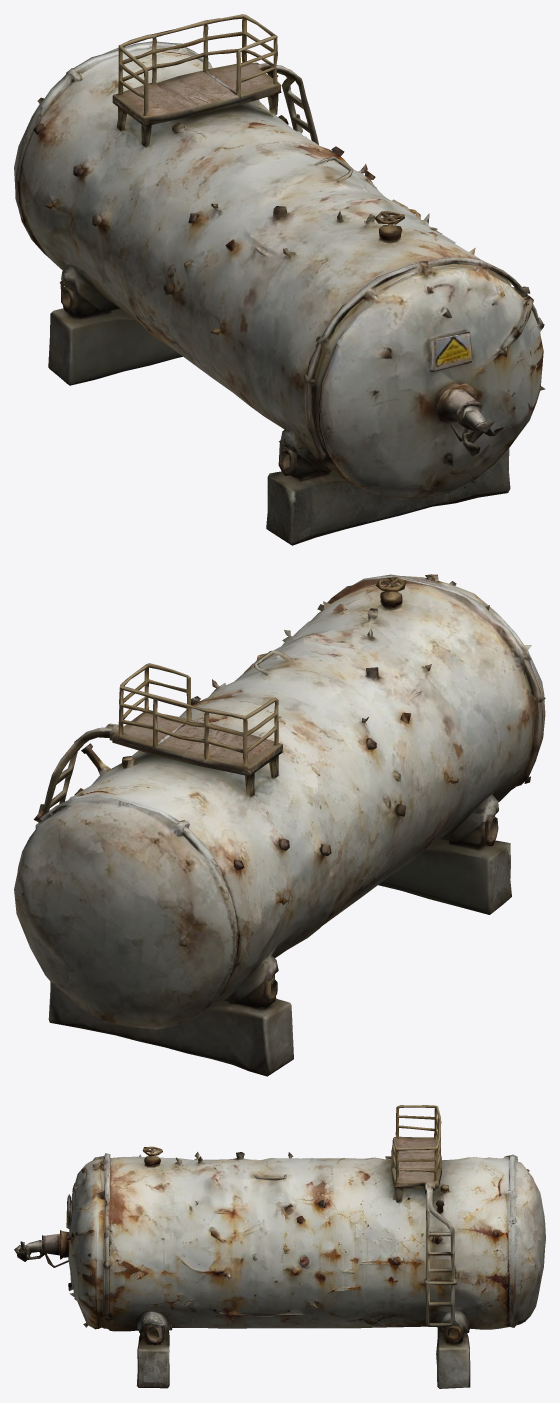
The model's file is pt_tank_h.glb.
3 renders of one model, top to bottom at view 1: azimuth 30°, elevation 25°; view 2: azimuth 150°, elevation 25°; view 3: azimuth 270°, elevation 25°, orthographic. The views are drawn at different scales.
Parts seen in each view (by area): view 1: tripo_node_5e906448-d984-4450-b351-a304ae39e6a0; view 2: tripo_node_5e906448-d984-4450-b351-a304ae39e6a0; view 3: tripo_node_5e906448-d984-4450-b351-a304ae39e6a0.
Boxes of the visible parts, left/top/right/bottom form: tripo_node_5e906448-d984-4450-b351-a304ae39e6a0: left=14, top=14, right=545, bottom=545; tripo_node_5e906448-d984-4450-b351-a304ae39e6a0: left=14, top=574, right=545, bottom=1076; tripo_node_5e906448-d984-4450-b351-a304ae39e6a0: left=14, top=1105, right=545, bottom=1388.
Size of the model in its own units: 0.3842 by 0.4606 by 0.9798.
Materials: 1 (1 with a texture image).
